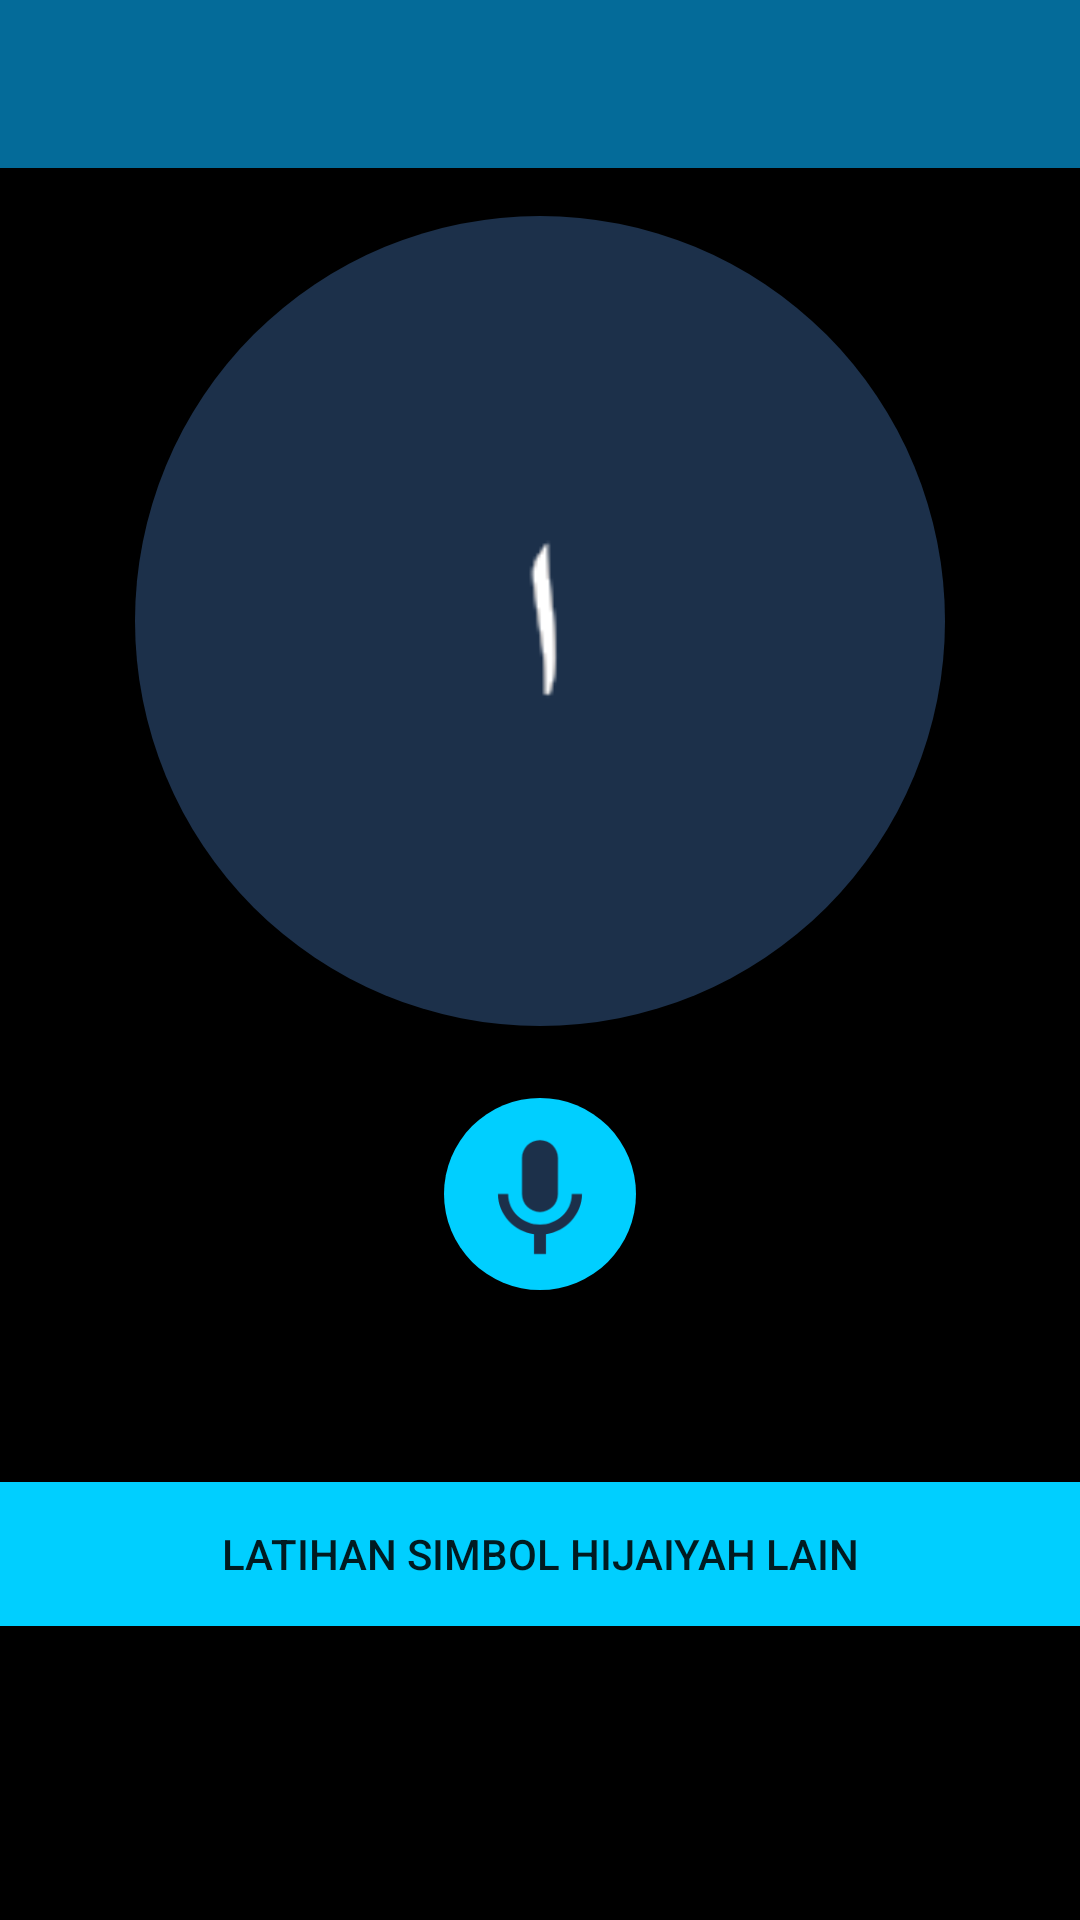

Icon click points for this 1080px x 1920px phone screenshot, format (x=x, y=y):
alif: (x=543, y=619)
Pesan Suara: (x=540, y=1194)
